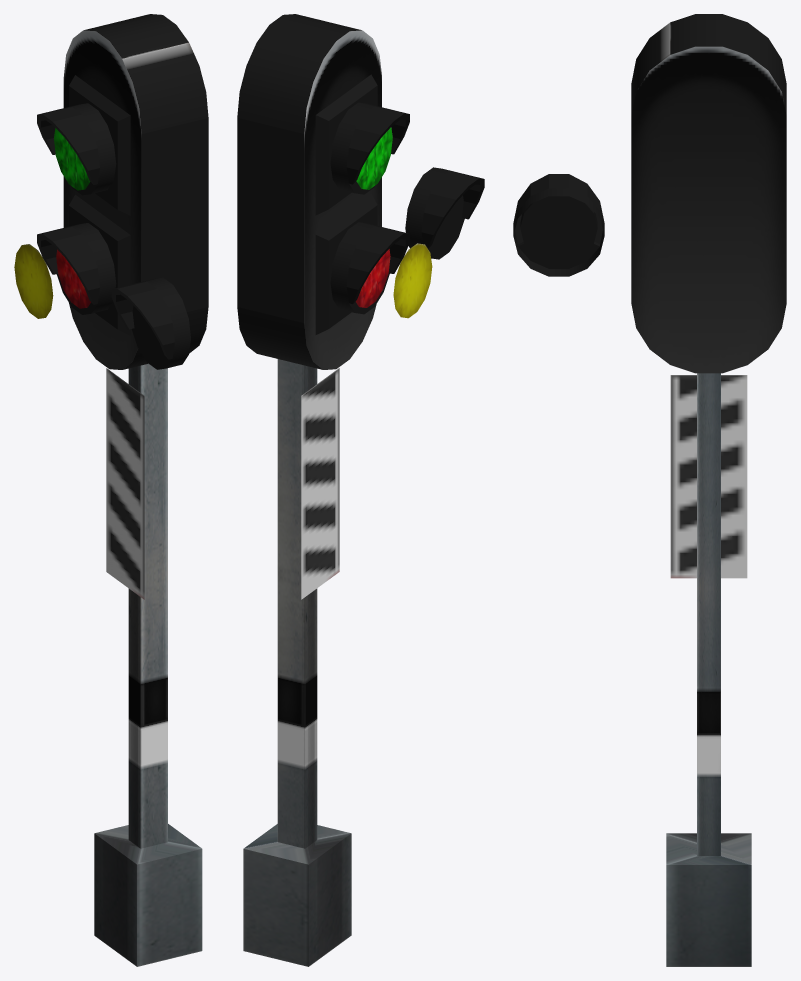
The model's file is Train_signals.FBX.
3 views of the same model, side by side, from view 1: azimuth 30°, elevation 25°; view 2: azimuth 150°, elevation 25°; view 3: azimuth 270°, elevation 25° (orthographic).
Parts seen in each view (by area): view 1: Object007, Object010, Object009, Object008, Object006; view 2: Object007, Object010, Object009, Object008, Object006; view 3: Object007, Object010.
Part boxes in pixels (x1,y1,x2,y2): Object007: [37, 14, 208, 966]; Object010: [111, 277, 190, 369]; Object009: [14, 244, 53, 318]; Object008: [54, 128, 90, 190]; Object006: [56, 249, 90, 308]; Object007: [237, 14, 409, 966]; Object010: [405, 167, 484, 259]; Object009: [393, 243, 432, 318]; Object008: [356, 127, 392, 189]; Object006: [355, 249, 390, 307]; Object007: [631, 14, 786, 966]; Object010: [513, 174, 604, 276].
Bounding box in the file's own units: 4.08 × 24.25 × 6.56.
